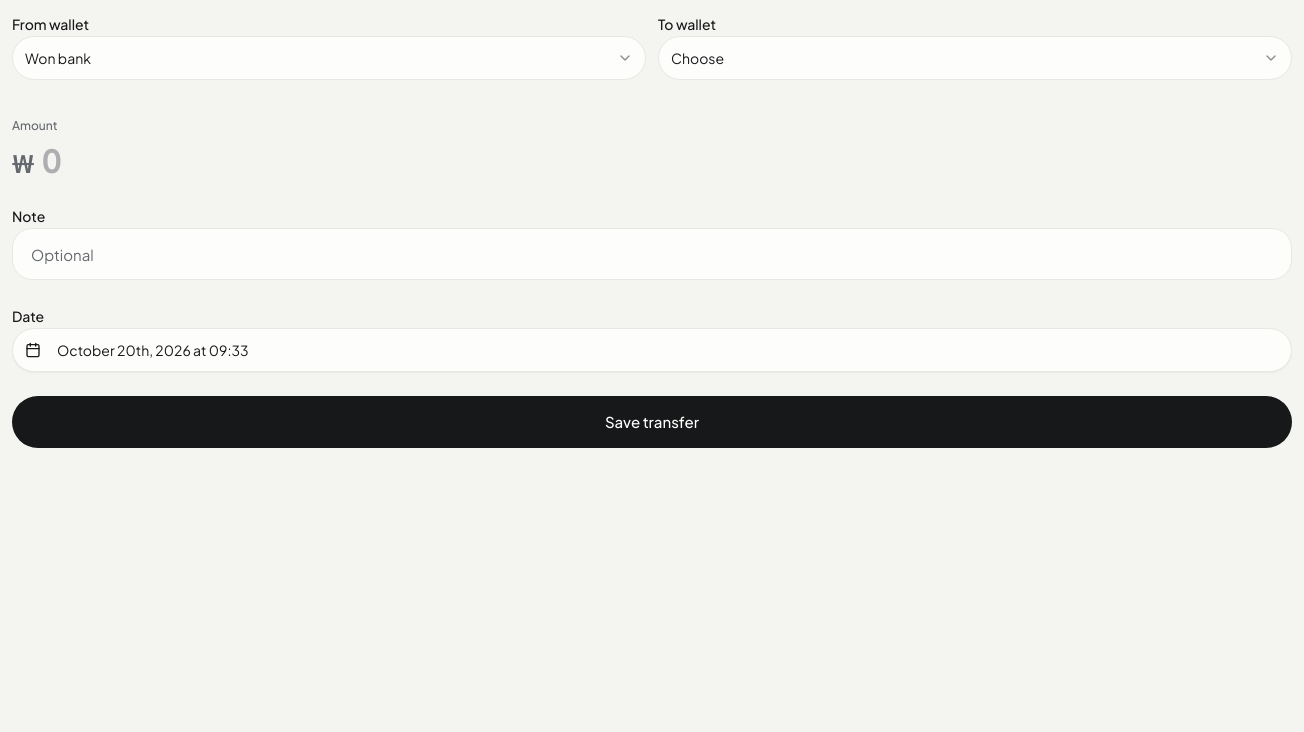
it: TransferForm › different currency: received field and rate line
This screenshot has width=1304, height=732.
Click the dropdown named "To wallet" at (698,58), box left=658, top=36, right=1292, bottom=80
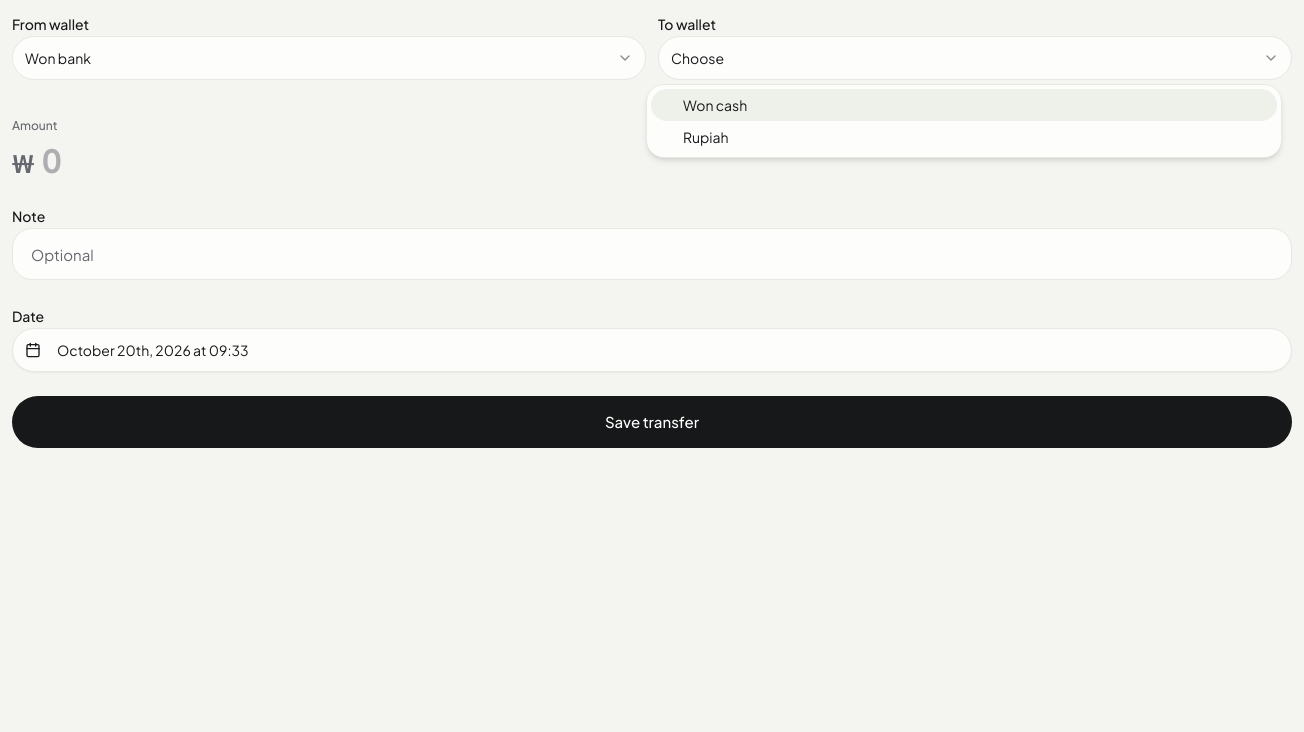
Click the option "Rupiah" at (706,137), box left=683, top=128, right=729, bottom=146
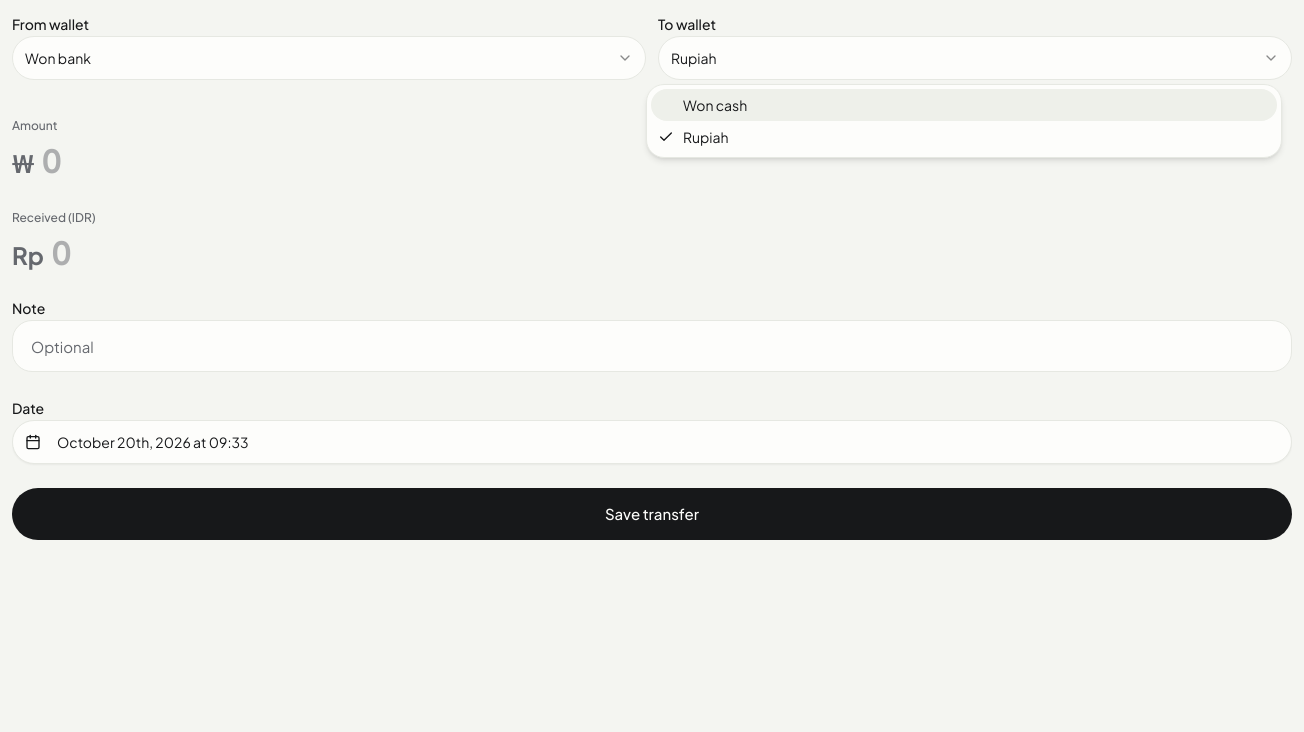
Type "100000" into the number field labelled "Amount" at (667,160), box left=42, top=140, right=1292, bottom=180
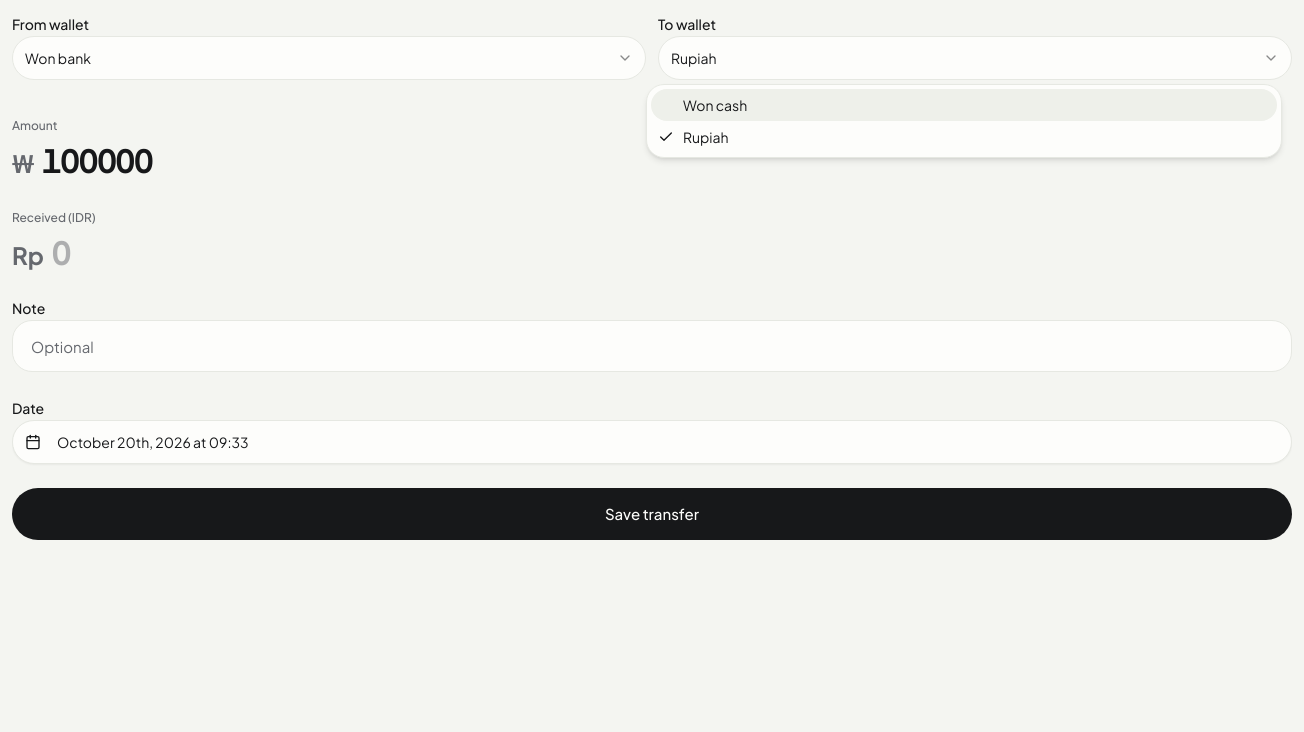
Type "1150000" into the number field labelled "Received (IDR)" at (672,252), box left=52, top=232, right=1292, bottom=272
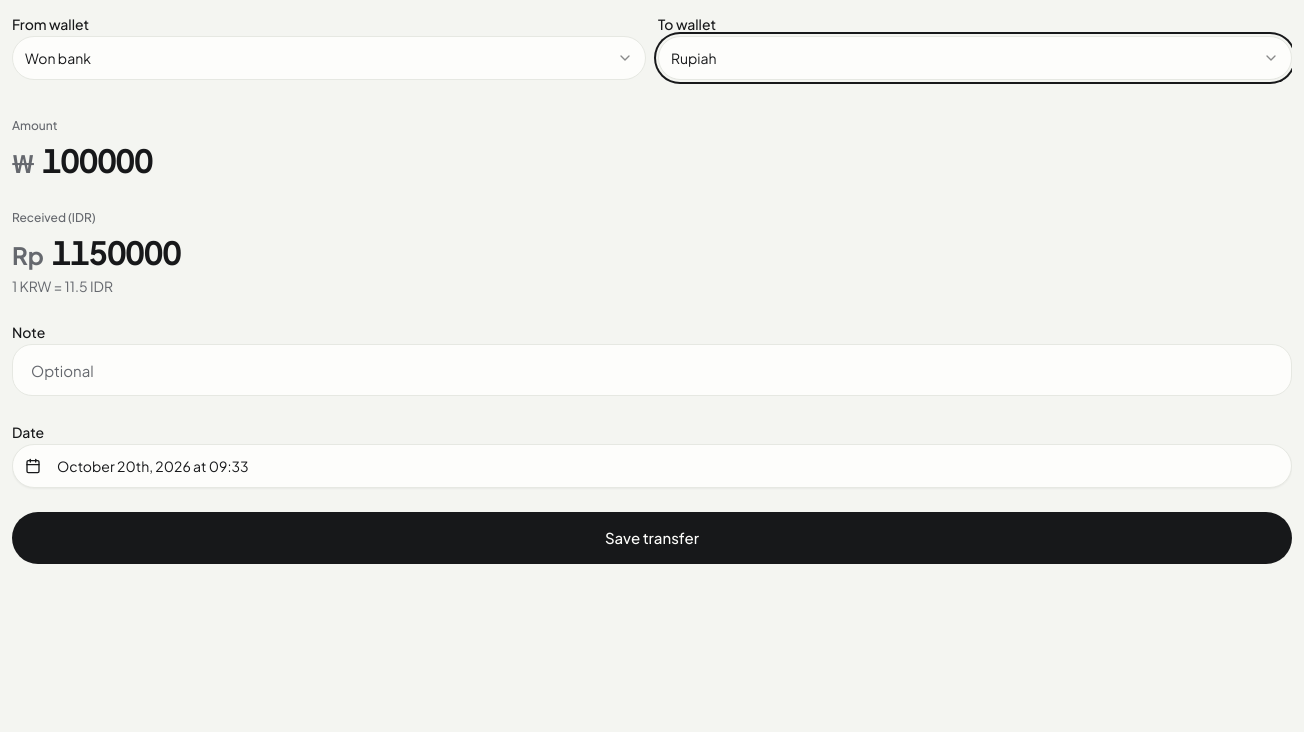
Expected: the text "1 KRW = 11.5 IDR" is shown, left=12, top=277, right=113, bottom=295
